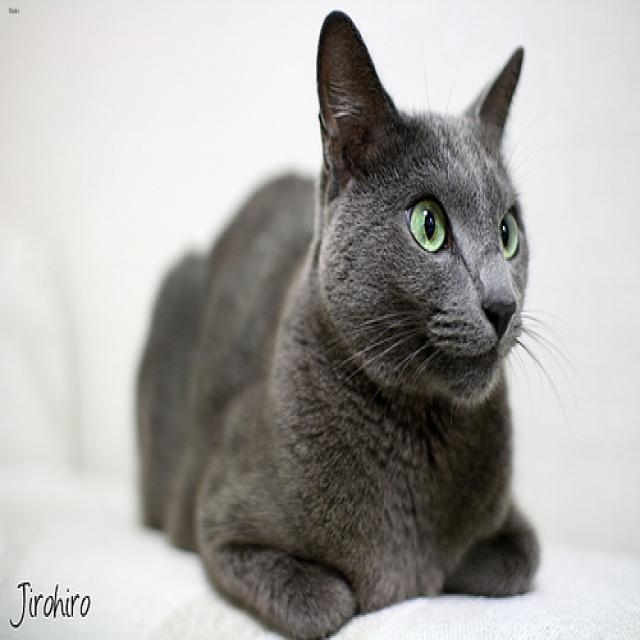Russian_Blue: (312, 0, 534, 410)
